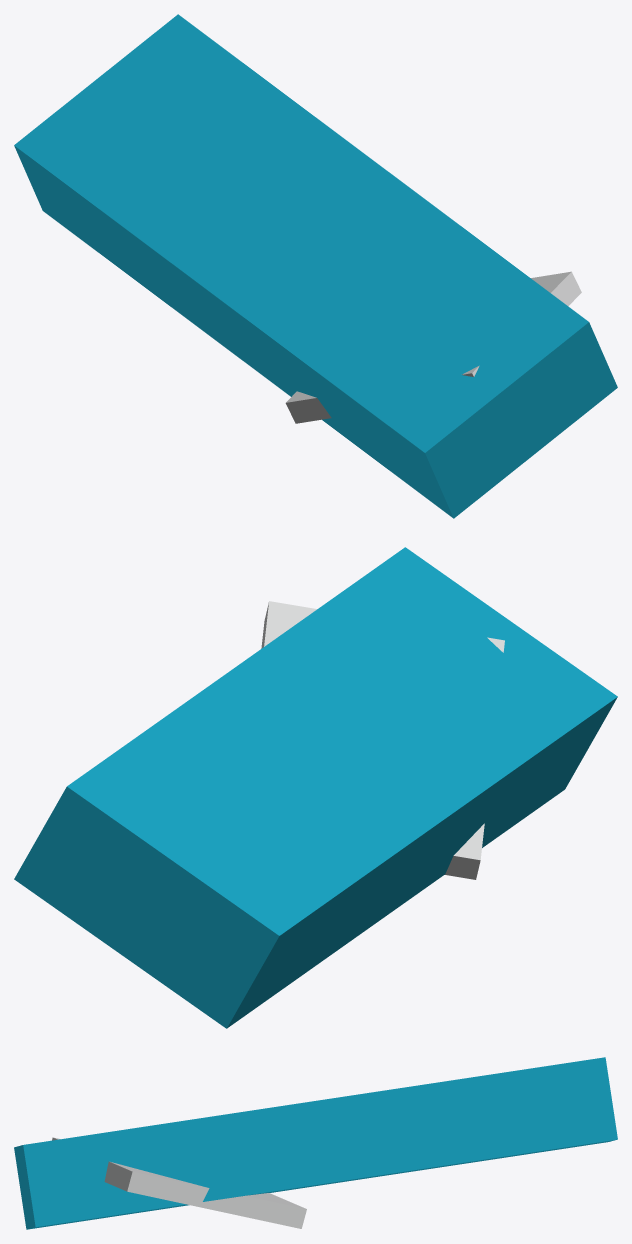
Rendered from commuter-bus-wreck.glb.
3 views of the same model, one above another, from view 1: azimuth 30°, elevation 25°; view 2: azimuth 150°, elevation 25°; view 3: azimuth 270°, elevation 25° (orthographic). The views are drawn at different scales.
Visible parts, largest first — view 1: Root; view 2: Root; view 3: Root.
Boxes of the visible parts, x1,y1,x2,y2 form: Root: (14,14,617,518); Root: (14,547,617,1028); Root: (14,1057,617,1229).
Bounding box in the file's own units: 4.08 × 3.18 × 8.71.
